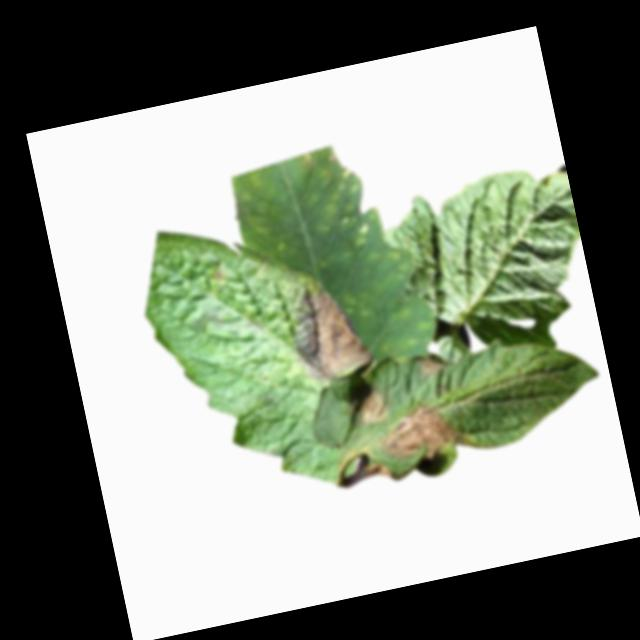Late_blight: (281, 274, 376, 390), (369, 396, 466, 470), (341, 382, 390, 429), (359, 458, 391, 483), (420, 354, 447, 376)
healthy: (372, 158, 601, 378)
